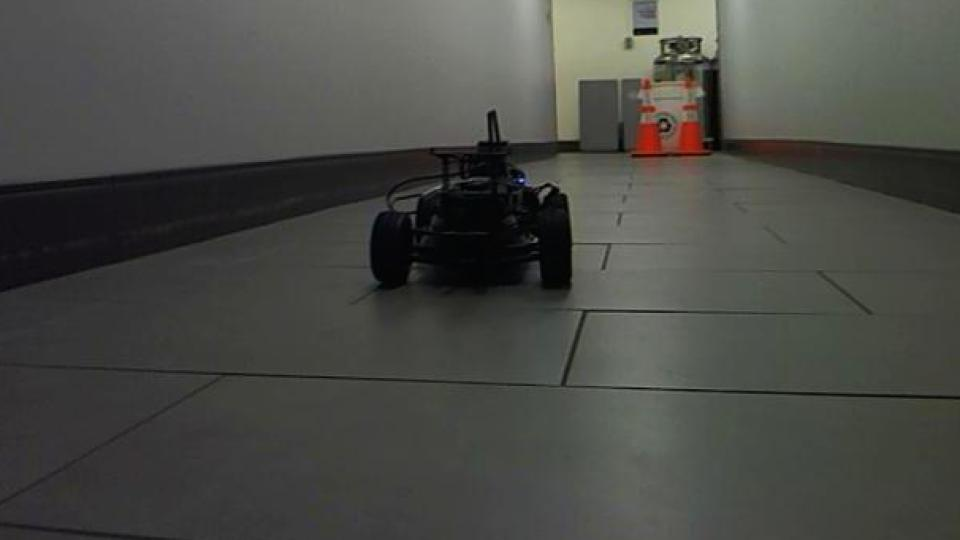car: (364, 108, 577, 294)
